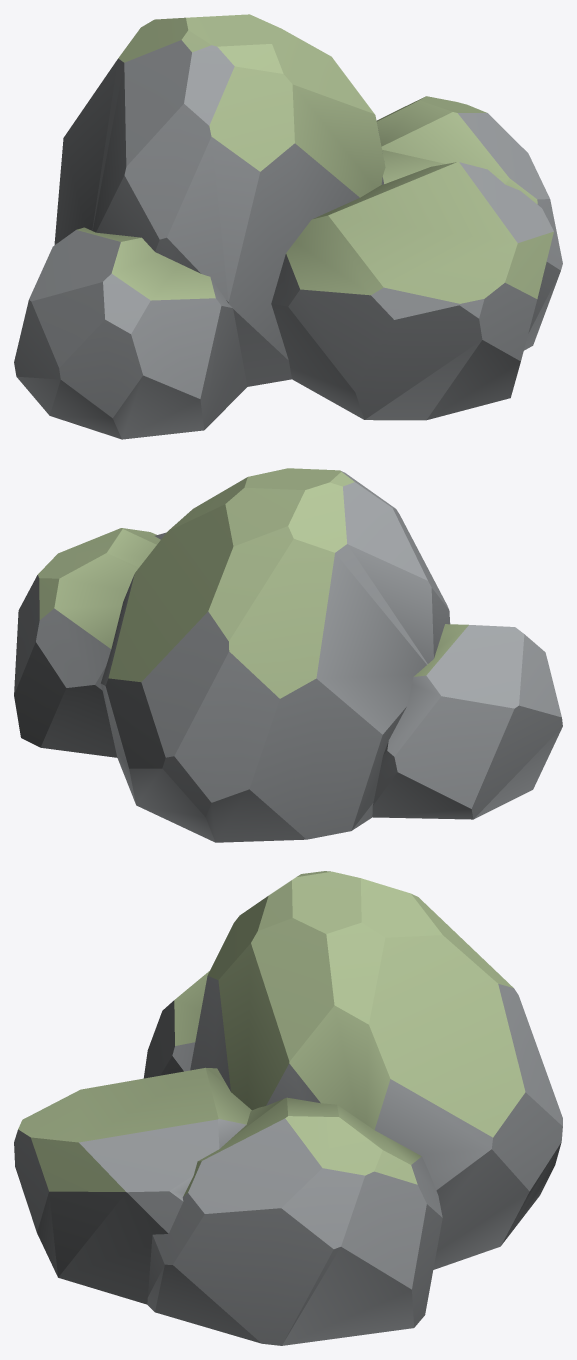
File: rock.glb
The picture shows the model from 3 angles, top to bottom: view 1: azimuth 30°, elevation 25°; view 2: azimuth 150°, elevation 25°; view 3: azimuth 270°, elevation 25°; orthographic projection. The views are drawn at different scales.
Visible parts, largest first — view 1: rock.001; view 2: rock.001; view 3: rock.001.
Boxes of the visible parts, left/top/right/bottom form: rock.001: left=14, top=14, right=562, bottom=439; rock.001: left=14, top=468, right=562, bottom=842; rock.001: left=14, top=871, right=562, bottom=1345.
Size of the model in its own units: 0.9 by 0.5205 by 0.8223.
